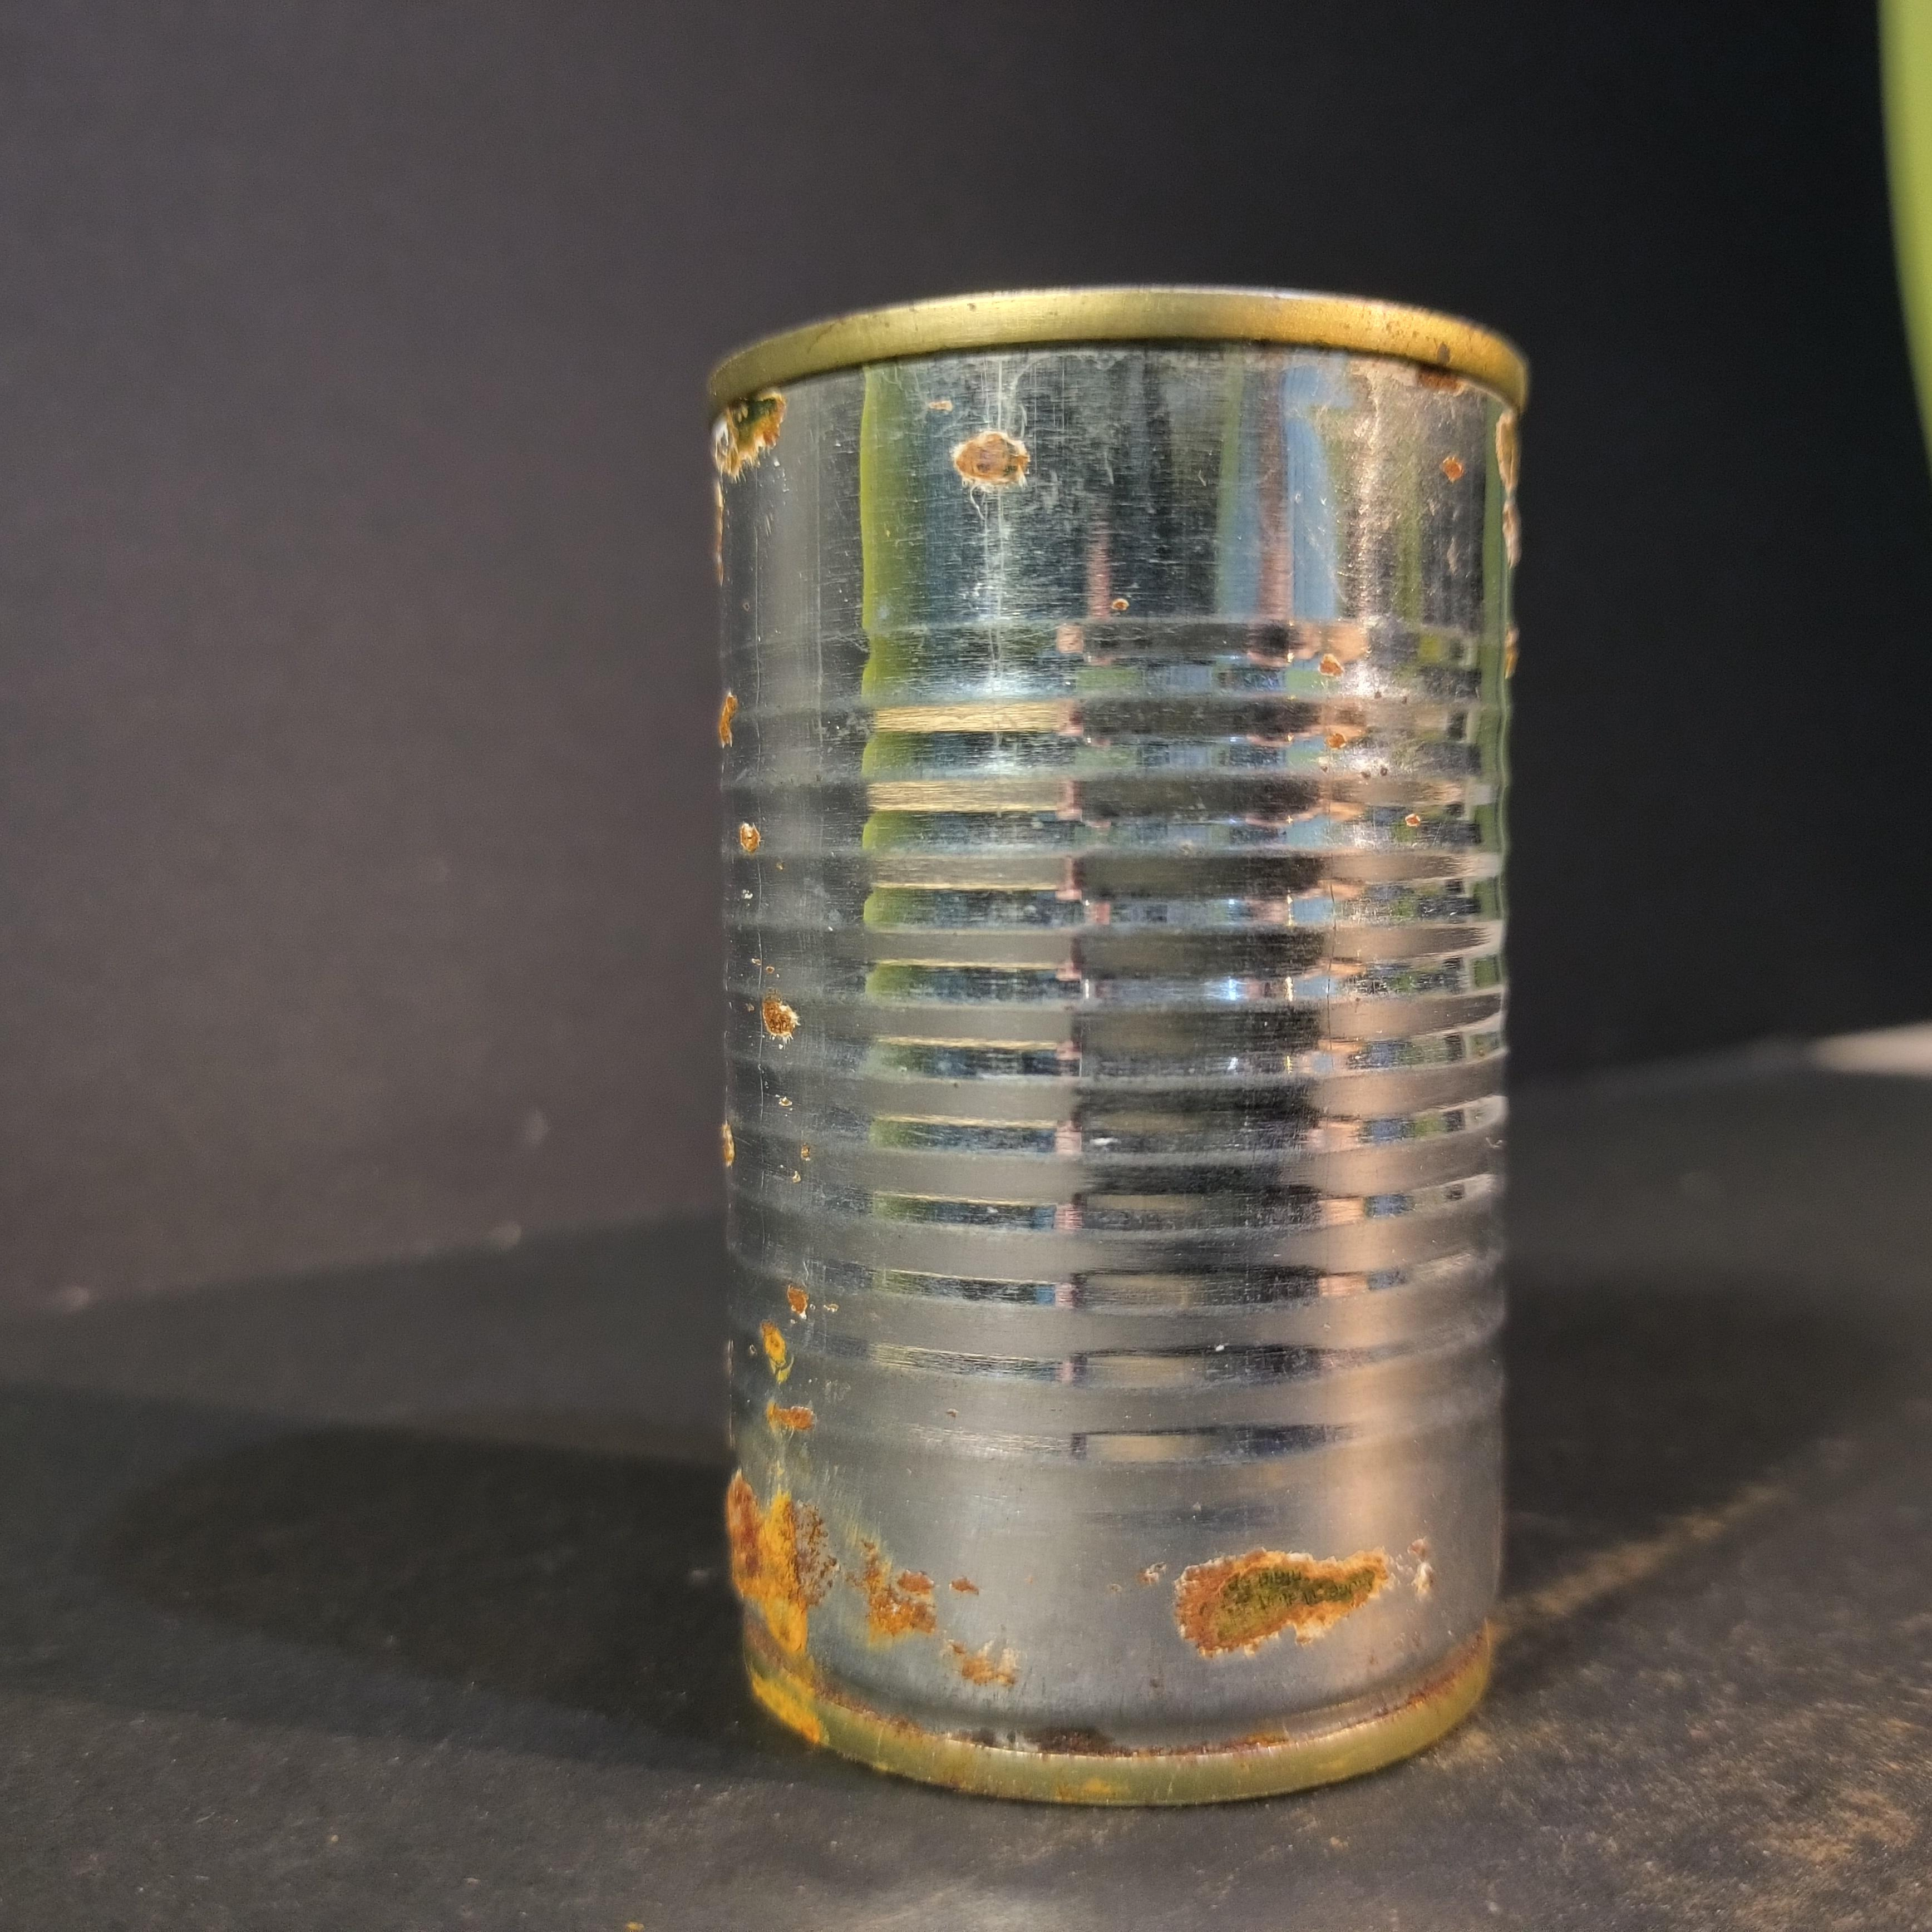Major Defect: (699, 287, 1530, 1806)
